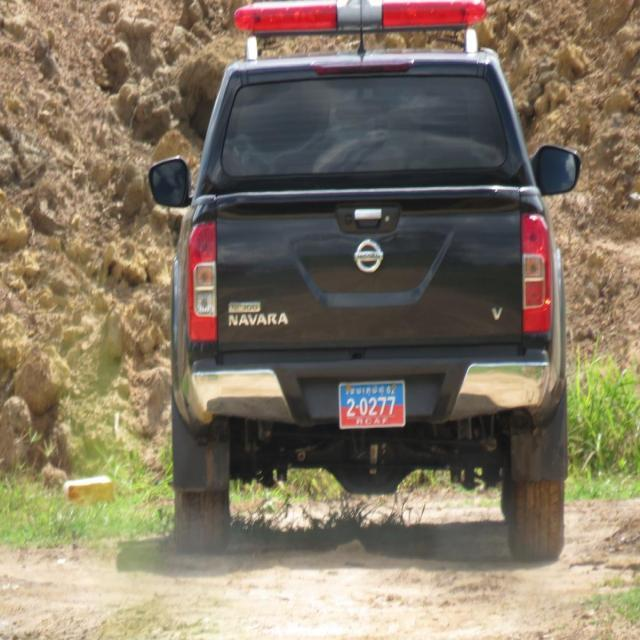RCAF: (346, 386, 384, 396)
